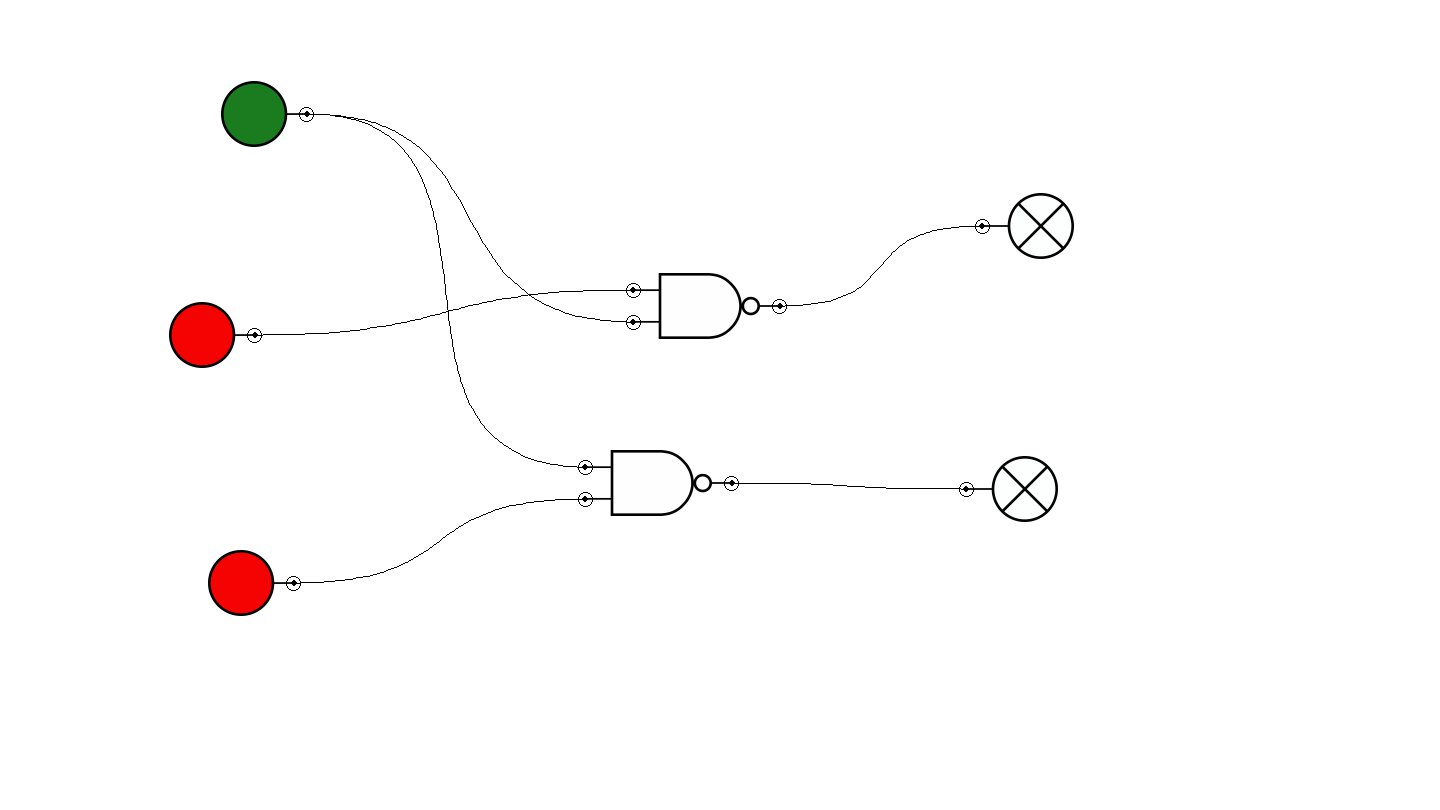bulb: (959, 456, 1058, 522), (975, 193, 1074, 259)
nand: (626, 273, 787, 339), (578, 450, 739, 516)
switch_False: (208, 550, 301, 616), (169, 302, 262, 368)
switch_True: (221, 81, 314, 147)
